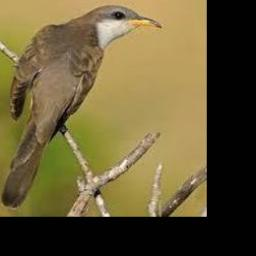Cuckoo: (0, 6, 161, 209)
